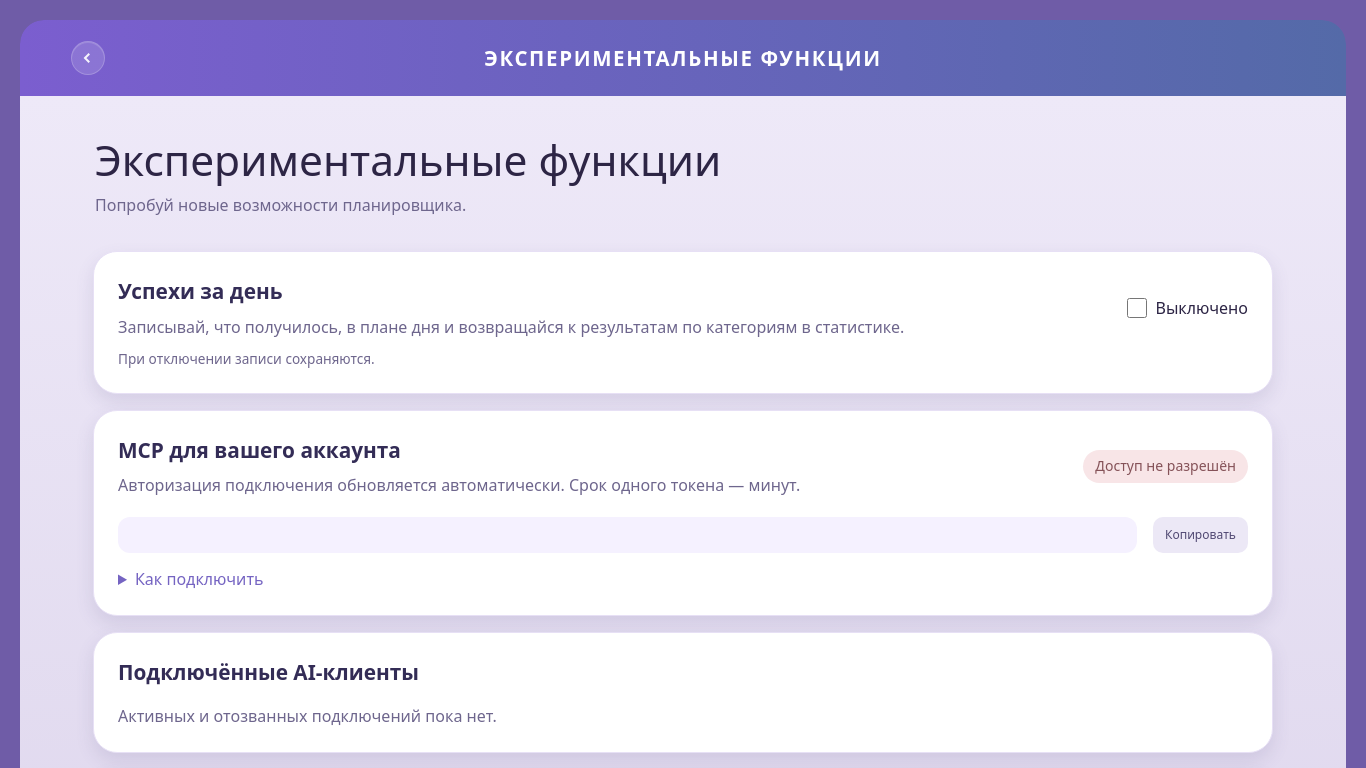
it: keeps the previous setting and shows an error when saving fails
This screenshot has width=1366, height=768.
Click the checkbox named "Успехи за день": point(1136, 308) [1126, 298, 1146, 318]
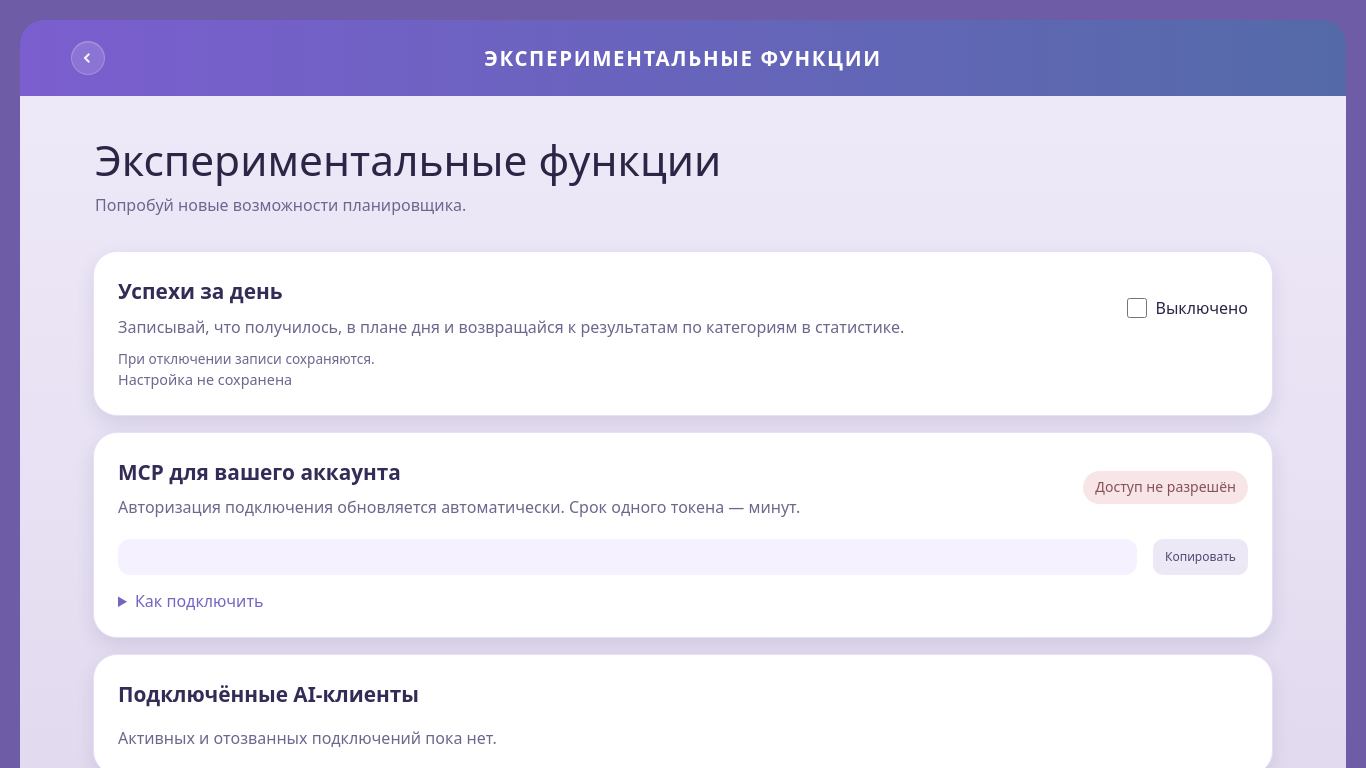
expect the message "Настройка не сохранена" is shown: met, box [118, 370, 292, 389]
